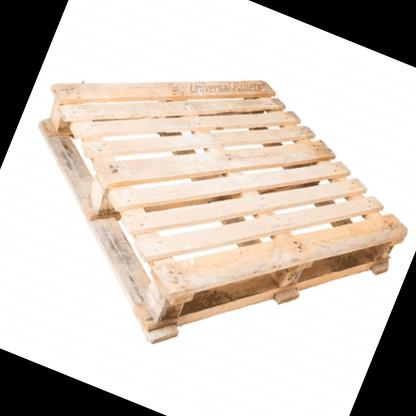BoxFace: (37, 80, 407, 346)
